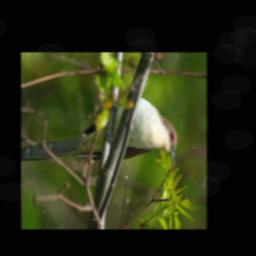Cuckoo: (22, 92, 178, 169)
